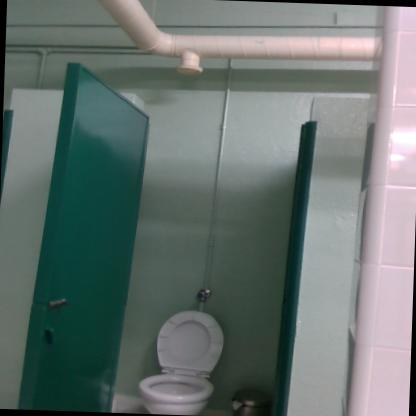open: (36, 56, 334, 415)
